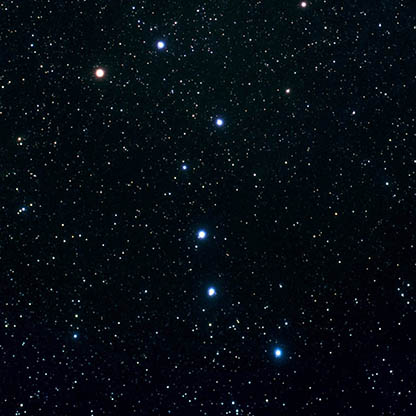Ursa Major: (88, 56, 119, 88), (206, 106, 232, 137), (267, 334, 291, 364), (145, 30, 171, 56), (166, 151, 191, 177), (199, 279, 222, 304), (191, 218, 209, 246)
